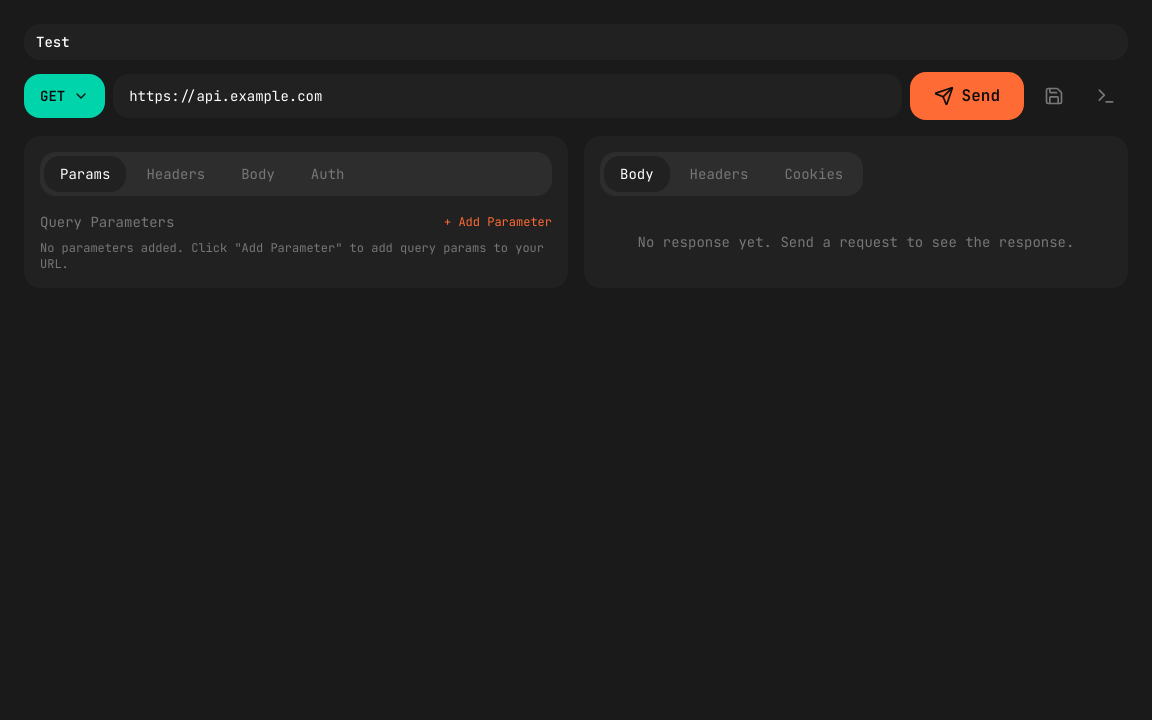
Scenario: RequestBuilder › shows body editor when selecting XML body type
The width and height of the screenshot is (1152, 720).
Note: Click the first body button (request tab)
Click the 1st button "body" at (258, 174), box [225,156,291,192]
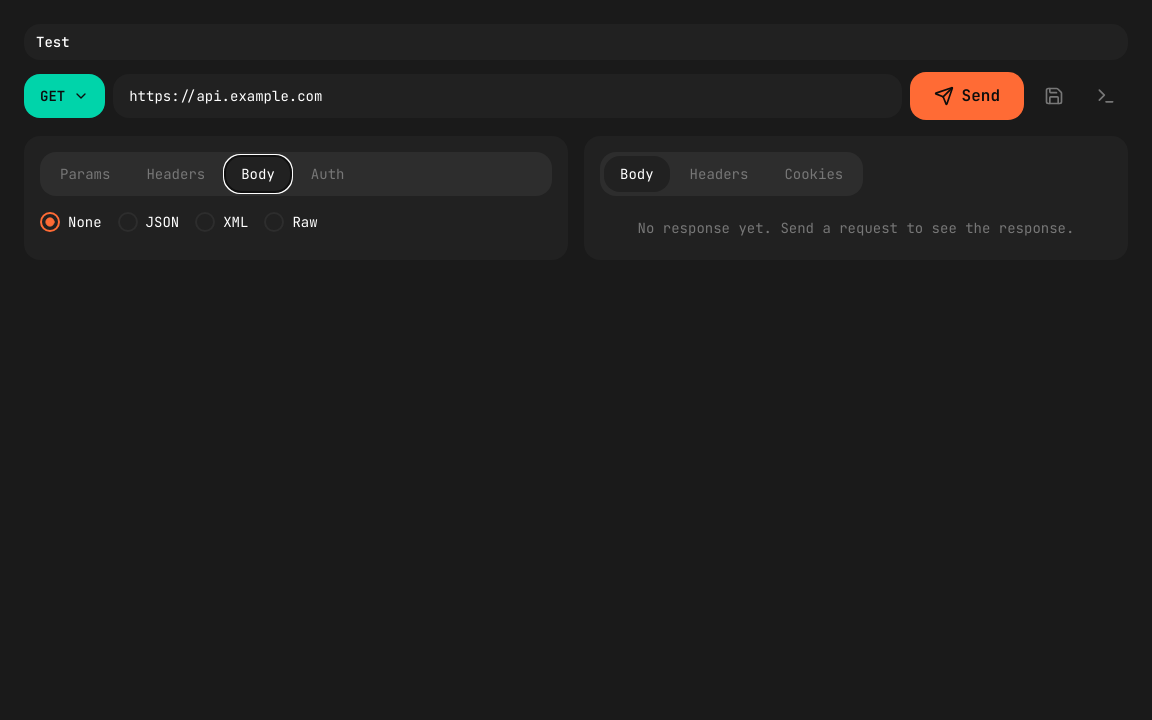
Note: Click on XML option in RadioGroup
Click the button "XML" at (222, 222), box [195,212,248,232]
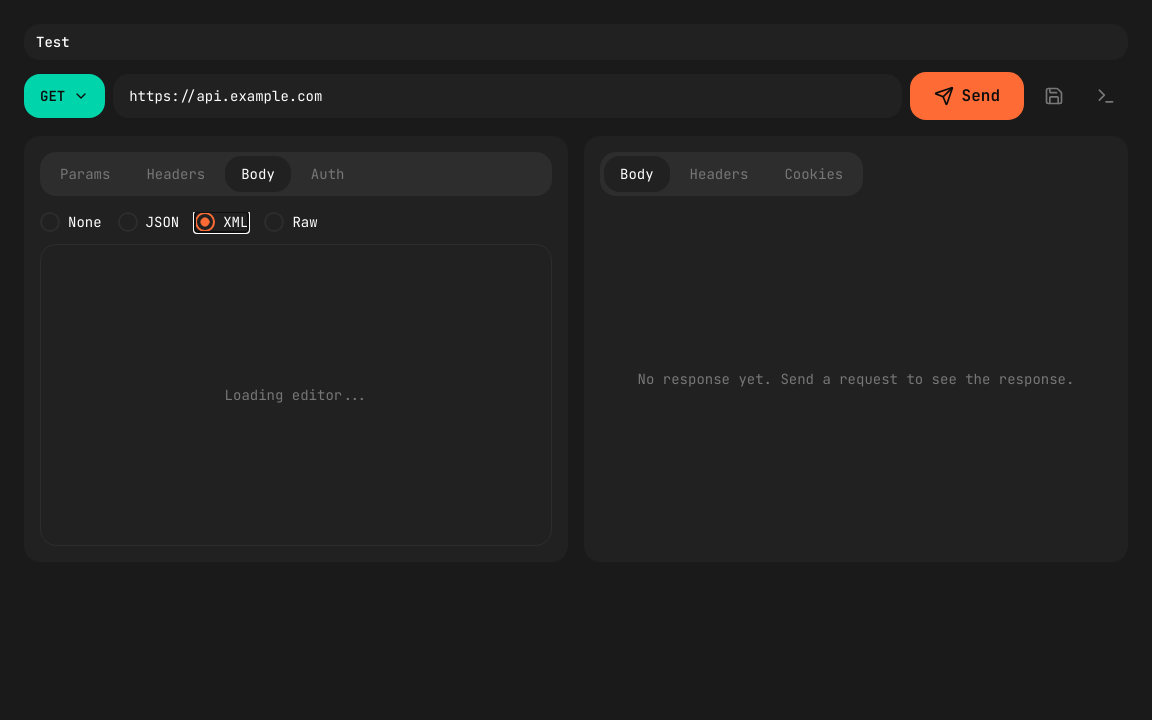
Now the text "Loading editor..." is shown, box [225,386,367,404]
